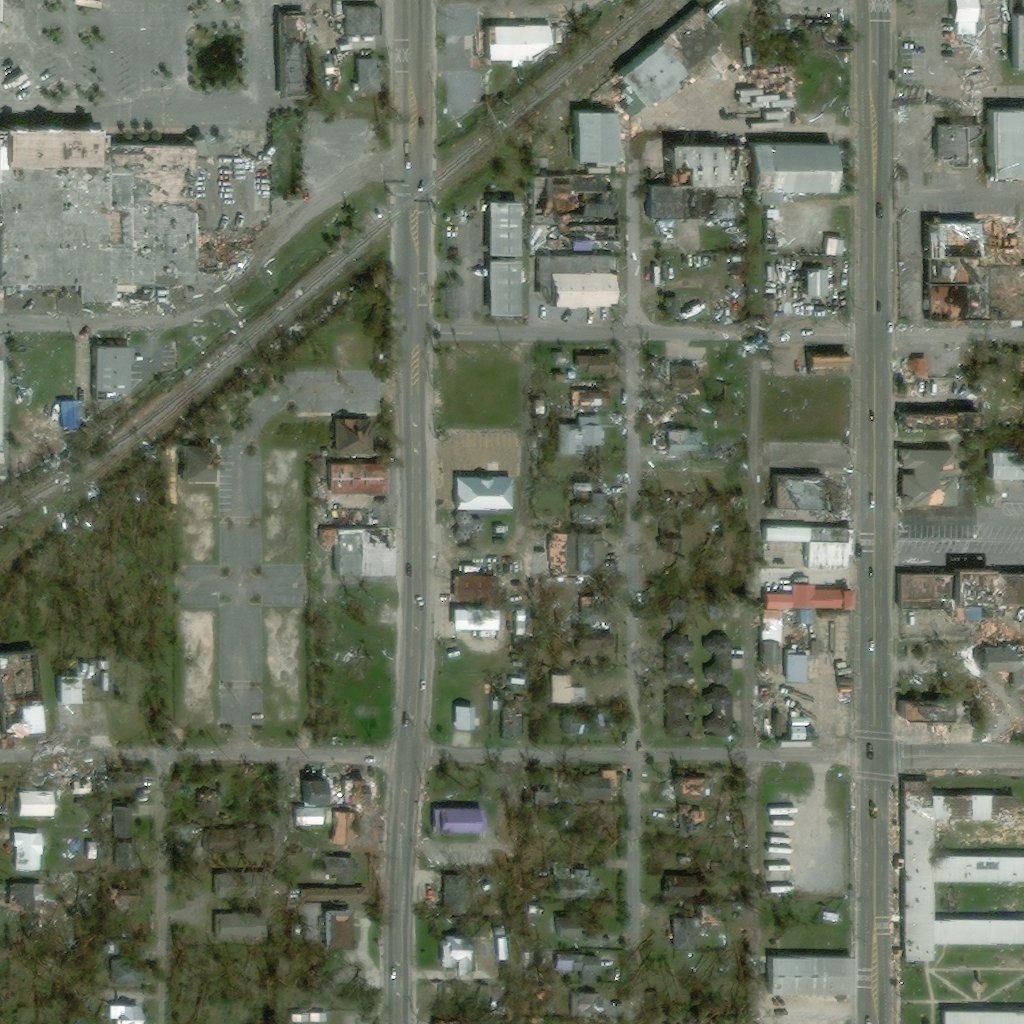destroyed: (526, 223, 623, 252), (923, 282, 965, 317), (768, 691, 791, 700), (796, 637, 808, 651)
major_damage: (0, 122, 260, 302), (895, 779, 1023, 967), (895, 546, 1023, 622), (662, 143, 836, 193), (317, 509, 393, 577), (921, 220, 1020, 265), (527, 174, 618, 222), (762, 527, 850, 570), (0, 651, 43, 735), (771, 472, 848, 511), (314, 463, 389, 501), (943, 0, 990, 52), (277, 14, 304, 98), (985, 268, 1023, 319), (898, 695, 954, 726), (541, 535, 579, 578), (895, 409, 967, 429), (577, 387, 615, 412), (893, 356, 931, 379), (0, 360, 7, 467), (759, 640, 778, 677), (672, 778, 705, 799), (675, 748, 716, 764), (712, 198, 740, 220), (345, 777, 366, 800), (766, 209, 779, 246), (589, 598, 607, 624), (695, 910, 717, 927)
minor_damage: (896, 447, 956, 510), (696, 635, 734, 725), (88, 345, 132, 403), (305, 905, 355, 949), (979, 647, 1023, 693), (9, 831, 50, 874), (661, 633, 696, 681), (331, 413, 369, 456), (432, 806, 487, 835), (180, 444, 220, 483), (795, 268, 830, 308), (554, 953, 600, 983), (324, 814, 358, 851), (679, 362, 713, 396), (582, 535, 609, 575), (668, 431, 705, 459), (580, 495, 610, 525), (814, 355, 853, 378), (501, 708, 520, 741), (667, 918, 693, 941), (299, 776, 333, 792), (567, 992, 600, 1007), (558, 354, 571, 366)
no_damage: (569, 39, 684, 163), (655, 3, 726, 76), (763, 953, 857, 1004), (536, 256, 620, 312), (481, 23, 552, 63), (984, 109, 1023, 178), (761, 582, 853, 609), (534, 855, 586, 899), (449, 476, 513, 511), (938, 1002, 1023, 1023), (491, 203, 524, 256), (491, 262, 523, 316), (490, 202, 522, 254), (491, 261, 522, 314), (438, 935, 478, 976), (550, 917, 603, 947), (15, 788, 53, 825), (569, 419, 605, 456), (936, 124, 965, 168), (348, 8, 383, 41), (567, 712, 617, 735), (56, 675, 94, 705), (986, 451, 1023, 481), (449, 609, 499, 630), (304, 888, 364, 905), (665, 294, 703, 320), (321, 857, 354, 886), (109, 960, 145, 985), (662, 517, 685, 554), (360, 62, 385, 96), (452, 706, 484, 732), (1008, 15, 1023, 69), (107, 1003, 143, 1023), (785, 17, 844, 29), (456, 511, 484, 536), (581, 356, 617, 375), (548, 675, 570, 705), (784, 655, 805, 681), (580, 628, 606, 647), (664, 605, 689, 623), (460, 574, 497, 586), (716, 602, 735, 624), (711, 301, 733, 320), (292, 1012, 329, 1023), (236, 884, 262, 899), (114, 807, 131, 827), (966, 71, 986, 88), (819, 237, 838, 253), (760, 704, 769, 736), (575, 687, 589, 705), (117, 994, 145, 1003), (761, 193, 783, 204), (816, 638, 831, 654), (98, 674, 110, 693), (895, 393, 912, 406), (794, 610, 808, 625), (120, 774, 133, 790), (240, 133, 260, 143), (483, 775, 501, 786), (772, 727, 787, 739), (129, 829, 151, 836), (993, 0, 1023, 5), (577, 485, 595, 493), (493, 526, 510, 533), (767, 266, 775, 278), (509, 678, 519, 686), (729, 451, 739, 458), (559, 375, 568, 382), (539, 407, 548, 414), (539, 430, 546, 439), (477, 632, 488, 637), (0, 0, 2, 21), (559, 523, 565, 529)
